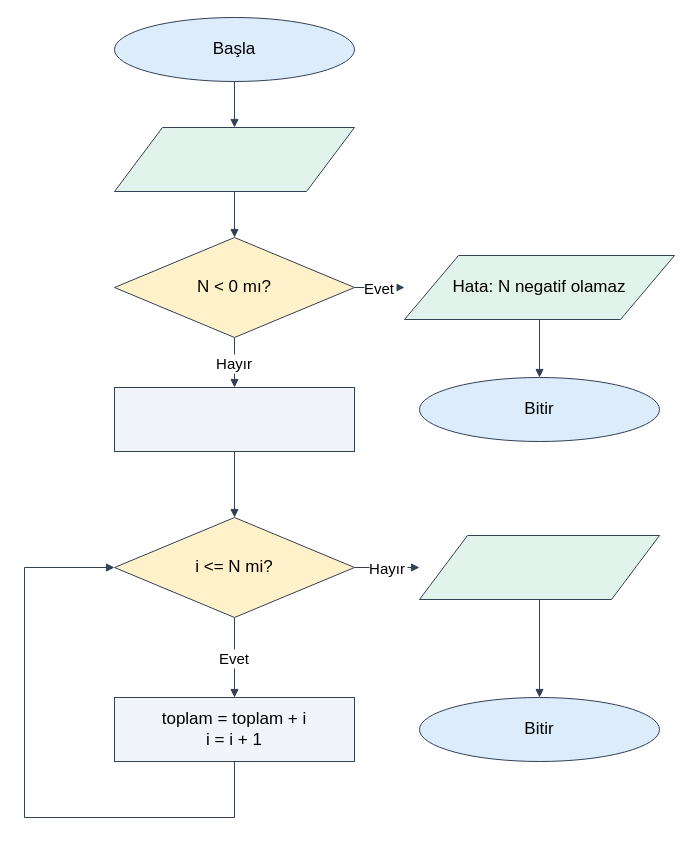
Some shapes in this 692 by 843 pixel diagram are drawn without their labels. Each missing label, with the centre of its shape:
"N tam sayısını oku" belongs at (x=234, y=159).
"toplam = 0 i = 1" belongs at (x=234, y=419).
"toplam değerini yaz" belongs at (x=539, y=567).
